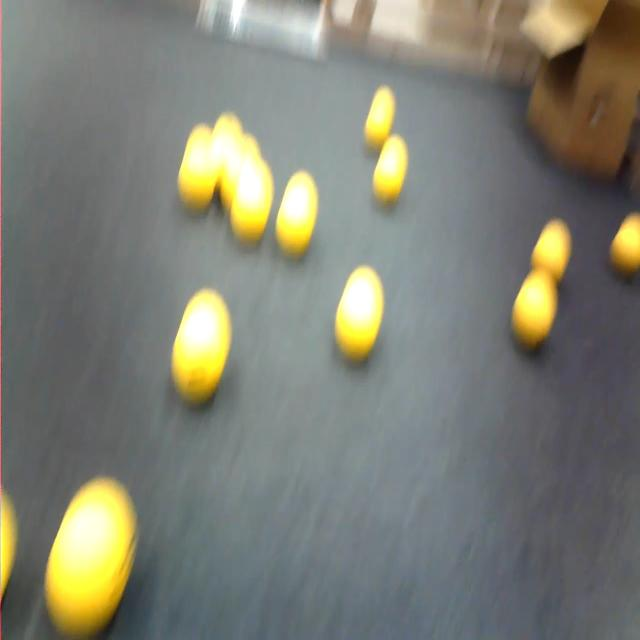fuel: (45, 478, 136, 638), (172, 289, 231, 403), (335, 266, 383, 361), (230, 155, 273, 243), (512, 270, 557, 350), (276, 172, 318, 256), (220, 135, 260, 210), (178, 136, 217, 210), (531, 219, 571, 282), (210, 113, 242, 189), (373, 135, 407, 203), (365, 87, 395, 150), (610, 214, 639, 277), (0, 492, 17, 599), (185, 124, 211, 151)
